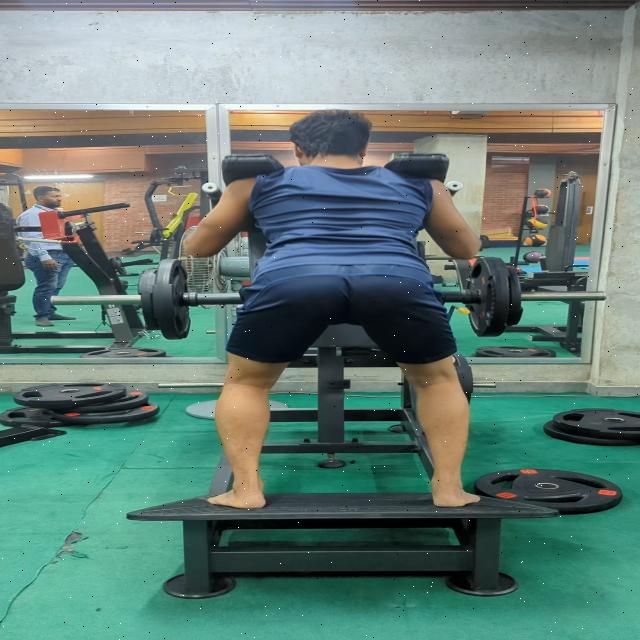Normal_SquatsWithBarbell: (160, 103, 480, 498)
